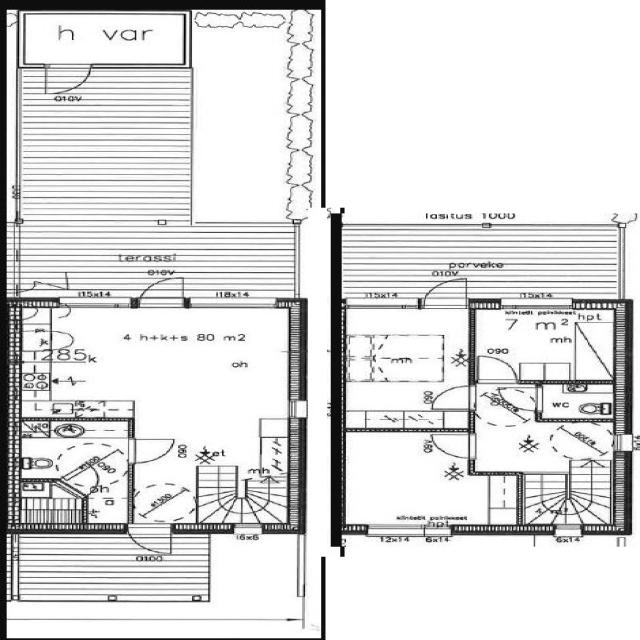door: (344, 308, 476, 429), (342, 430, 488, 528), (124, 523, 178, 558), (42, 61, 94, 97), (421, 275, 470, 309), (137, 275, 188, 307), (472, 353, 522, 384), (127, 436, 180, 465), (428, 430, 478, 460), (430, 384, 477, 411), (504, 384, 542, 414), (53, 303, 75, 320), (18, 307, 41, 322)
window: (98, 60, 174, 75), (186, 299, 280, 311), (343, 300, 418, 312), (61, 299, 132, 311), (363, 523, 426, 536), (499, 302, 576, 312), (285, 397, 313, 422), (614, 432, 636, 453), (550, 524, 586, 535), (230, 524, 267, 534), (624, 433, 640, 452)
zone: (44, 306, 302, 386), (344, 308, 472, 428), (341, 430, 486, 527), (473, 307, 627, 380), (11, 12, 190, 64), (12, 421, 133, 497), (472, 421, 623, 470), (6, 481, 85, 529), (535, 381, 625, 421), (83, 493, 129, 528)
